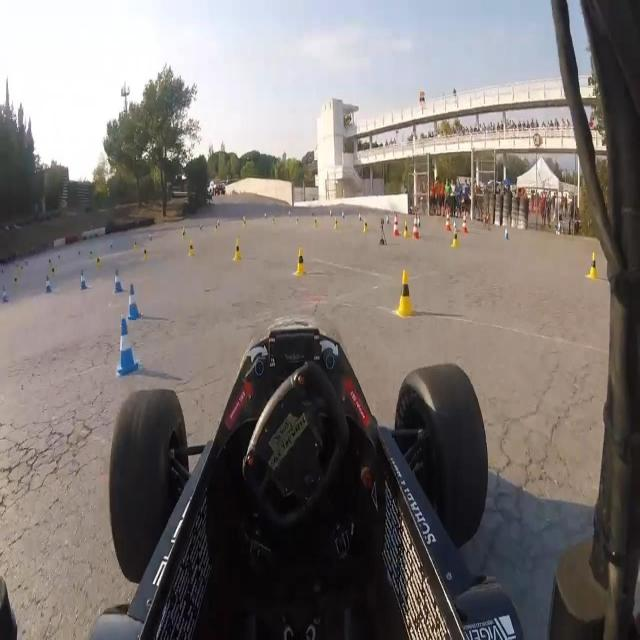blue_cone: (112, 316, 140, 378), (125, 284, 141, 320), (112, 267, 124, 295), (77, 268, 87, 292), (2, 284, 8, 306), (503, 226, 511, 242), (44, 276, 51, 294), (452, 215, 459, 232), (385, 211, 391, 227)
large_orange_cone: (412, 214, 421, 242), (461, 213, 469, 236), (392, 212, 399, 238), (445, 212, 451, 232)
yellow_cone: (394, 270, 418, 319), (294, 246, 307, 278), (584, 252, 598, 281), (232, 236, 242, 262), (187, 238, 196, 258), (451, 230, 459, 250), (402, 219, 410, 238), (142, 244, 148, 264), (12, 273, 18, 290), (362, 219, 368, 234), (96, 256, 102, 270), (333, 217, 339, 231), (52, 267, 57, 282), (314, 216, 319, 228)
